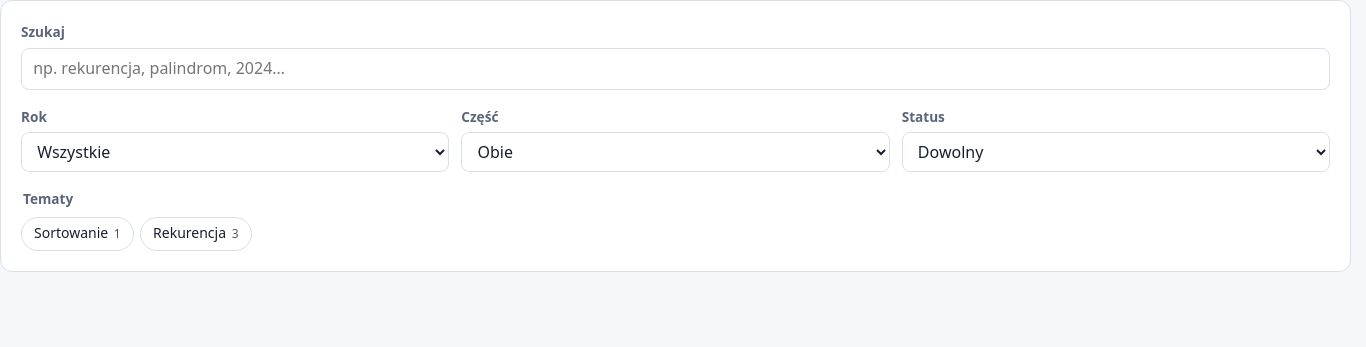
Test case: TaskFilters › aktualizuje frazę, rok i część oraz pozwala wyczyścić filtry
Type "pierwsze" into the search field labelled "Szukaj" at (676, 68), box [21,48,1330,90]
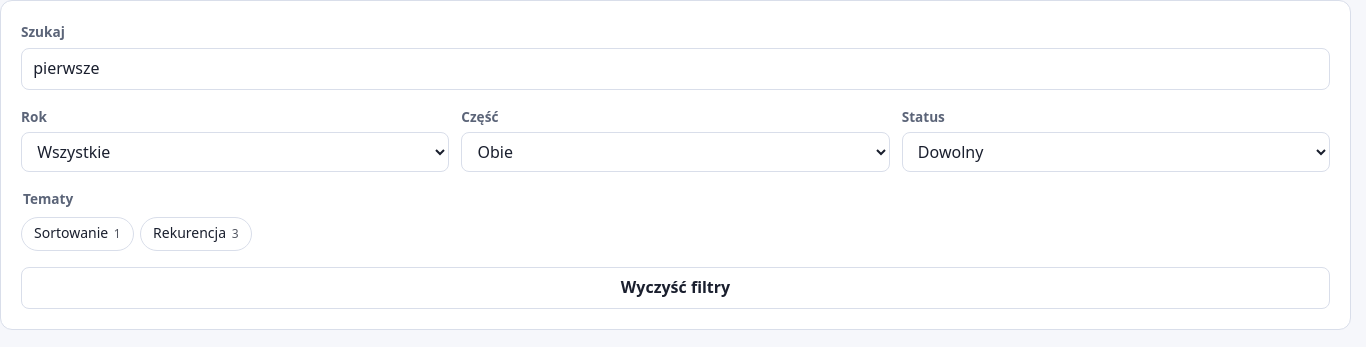
Select "2024" in the dropdown labelled "Rok" at (235, 152), box [21,132,449,172]
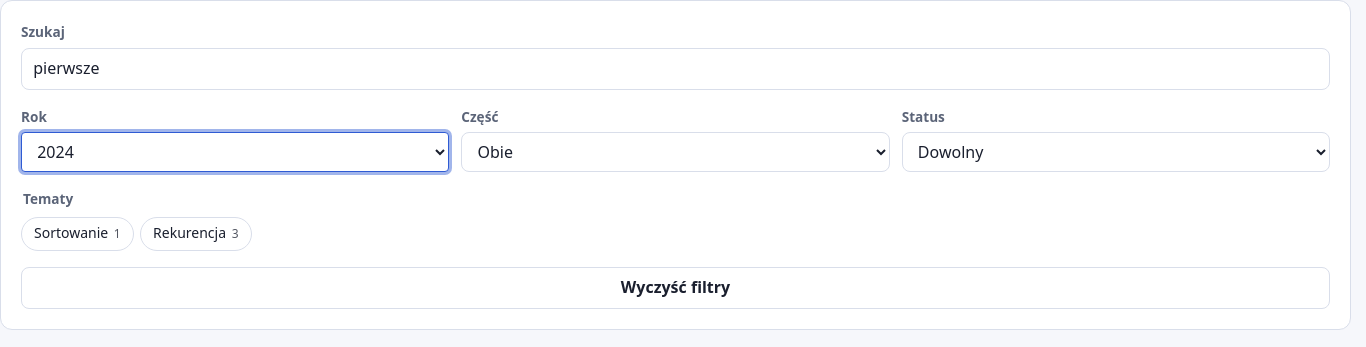
Select "2 – przy komputerze" in the dropdown labelled "Część" at (675, 152), box [461,132,890,172]
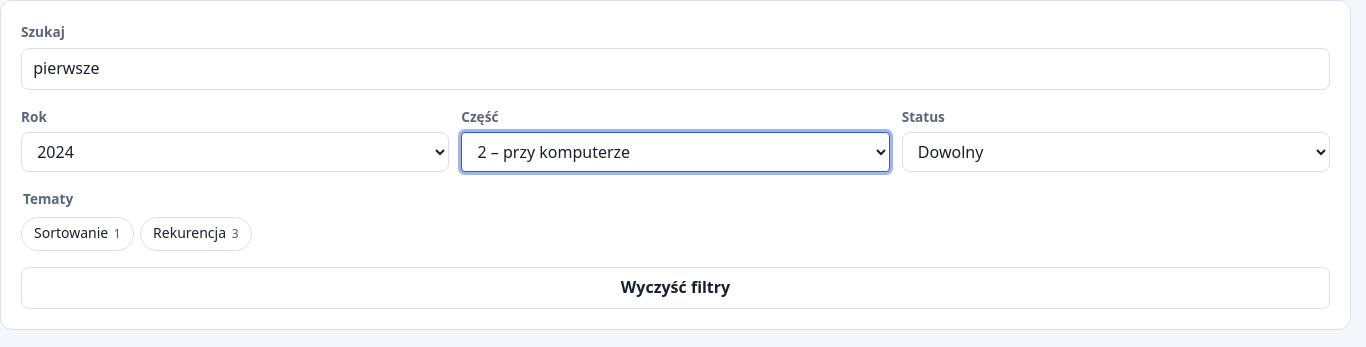
Click the button "Wyczyść filtry" at (676, 288), box [21,267,1330,309]
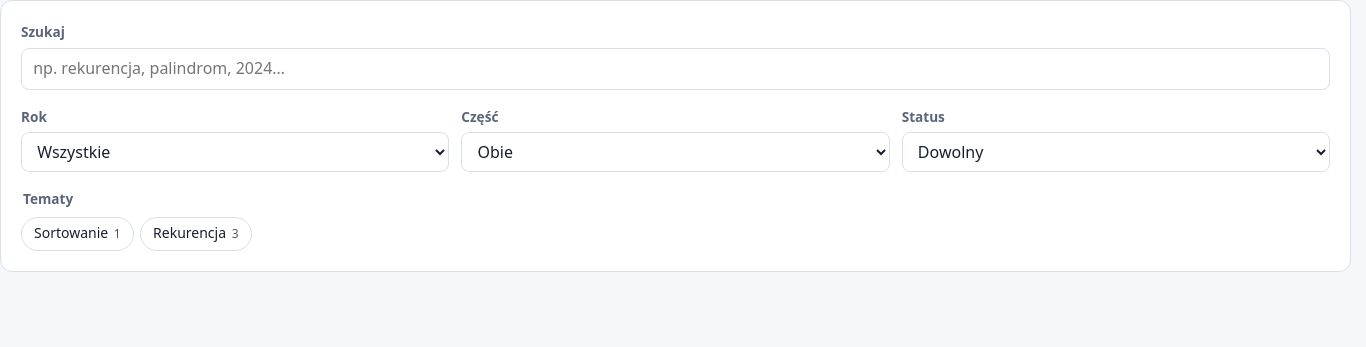
Check: the button "Wyczyść filtry" is gone
